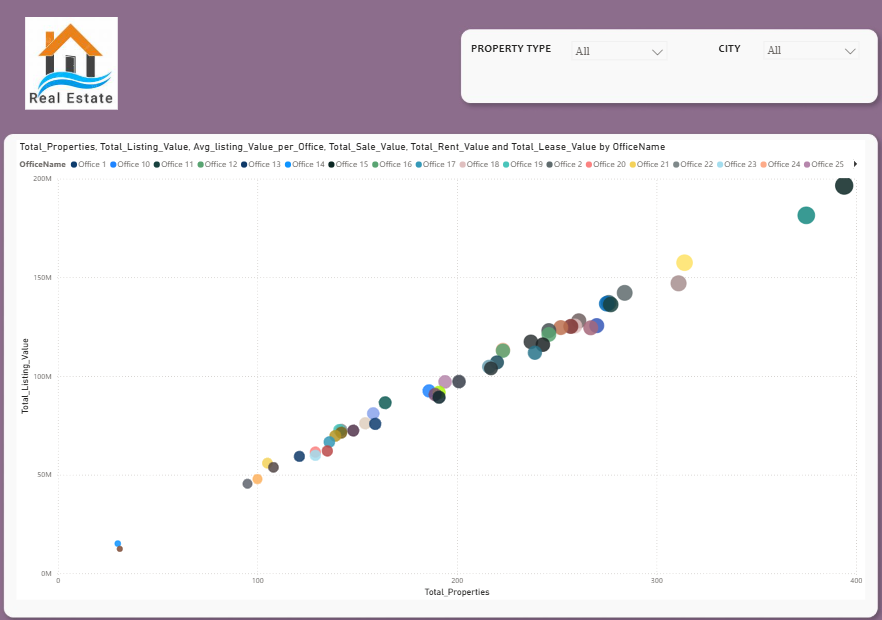

What the dashboard file says about the page in this screenshot:
{"tool":"powerbi","page":{"name":"OFFICE-WISE PERFORMANCE [PART 2]","canvas":[1440,1024],"ordinal":11},"visuals":[{"type":"slicer","title":"CITY","fields":{"Values":["Properties.City"]},"box":[1237.5,57.5,175,55],"z":0},{"type":"slicer","title":" PROPERTY TYPE","fields":{"Values":["Properties.PropertyType"]},"box":[925,57.5,175,45],"z":1000},{"type":"textbox","box":[765,62.5,160,122.5],"z":2000},{"type":"textbox","box":[1167.5,62.5,102.5,62.5],"z":3000},{"type":"scatterChart","fields":{"X":["Measure_Table.Total_Properties"],"Y":["Measure_Table.Total_Listing_Value"],"Size":["Measure_Table.Avg_listing_Value_per_Office"],"Series":["Offices.OfficeName"]},"box":[32.5,230,1380,747.5],"z":4000},{"type":"image","box":[25.1,29.6,193.7,150.4],"z":5000}]}

Visuals, with their boxes in screenshot pixels (x1, y1, x2, y2), scaled from the page's 1440x1024 canvas onto the 882x620 screenshot:
"CITY" slicer: BBox(758, 35, 865, 68)
" PROPERTY TYPE" slicer: BBox(567, 35, 674, 62)
textbox: BBox(469, 38, 567, 112)
textbox: BBox(715, 38, 778, 76)
scatterChart - Measure_Table.Total_Properties x Measure_Table.Total_Listing_Value: BBox(20, 139, 865, 592)
image: BBox(15, 18, 134, 109)
